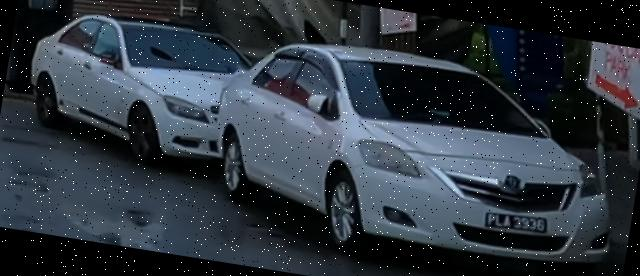License_Plate: (483, 208, 550, 238)
car: (199, 24, 637, 276), (19, 4, 259, 179)
